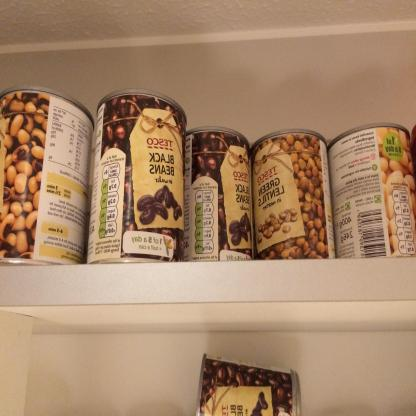metal: (87, 87, 187, 265), (1, 82, 94, 266), (326, 122, 415, 263), (250, 126, 336, 266), (186, 126, 252, 264), (195, 353, 301, 415)
